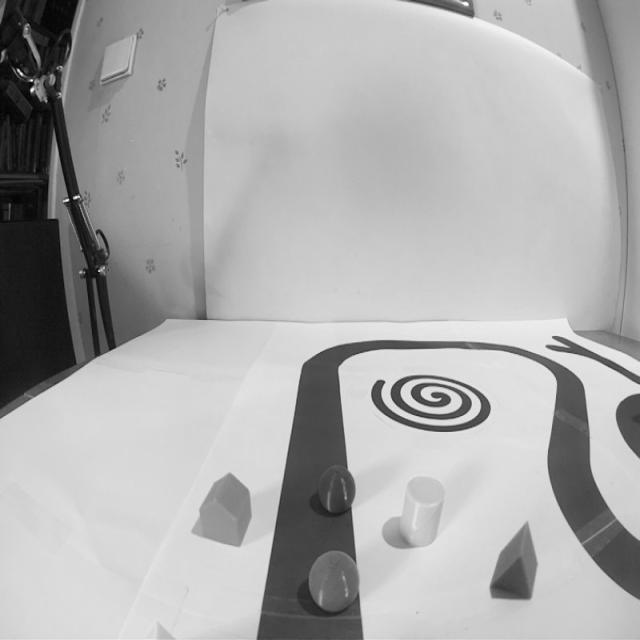ball: (307, 546, 360, 616), (315, 464, 356, 518)
cylinder: (399, 474, 447, 548)
home: (198, 474, 252, 548), (143, 619, 175, 640)
lineStraight: (260, 462, 363, 638)
nest: (370, 372, 493, 432)
triangle: (491, 522, 538, 600)
